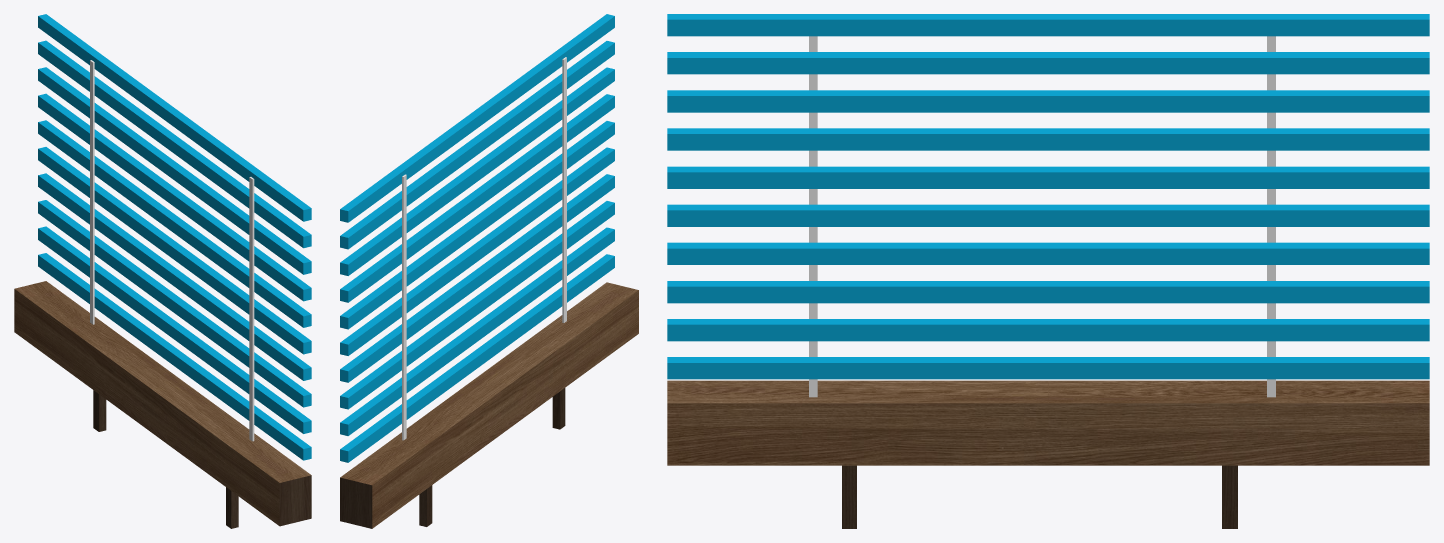
The model's file is Adorno1.fbx.
3 renders of one model, left to right at view 1: azimuth 30°, elevation 25°; view 2: azimuth 150°, elevation 25°; view 3: azimuth 270°, elevation 25°, orthographic. The views are drawn at different scales.
Parts seen in each view (by area): view 1: Adorno_2, Base_2, Conexion_2; view 2: Adorno_2, Base_2, Conexion_2; view 3: Adorno_2, Base_2, Conexion_2.
Boxes of the visible parts, x1,y1,x2,y2 form: Adorno_2: (38, 14, 311, 460); Base_2: (14, 281, 311, 528); Conexion_2: (90, 60, 254, 441); Adorno_2: (340, 14, 614, 462); Base_2: (340, 282, 638, 528); Conexion_2: (402, 57, 566, 440); Adorno_2: (667, 14, 1429, 379); Base_2: (667, 380, 1429, 528); Conexion_2: (809, 36, 1275, 397).
Size of the model in its own units: 39.84 by 430 by 574.
Materials: 3 (1 with a texture image).
